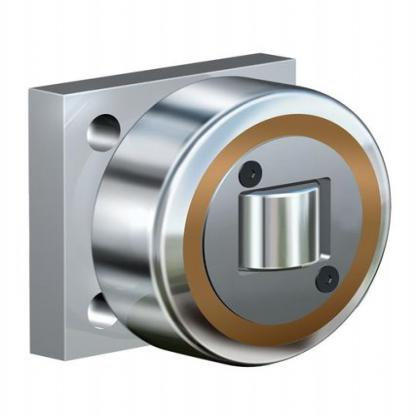FOD: (89, 72, 403, 369)
